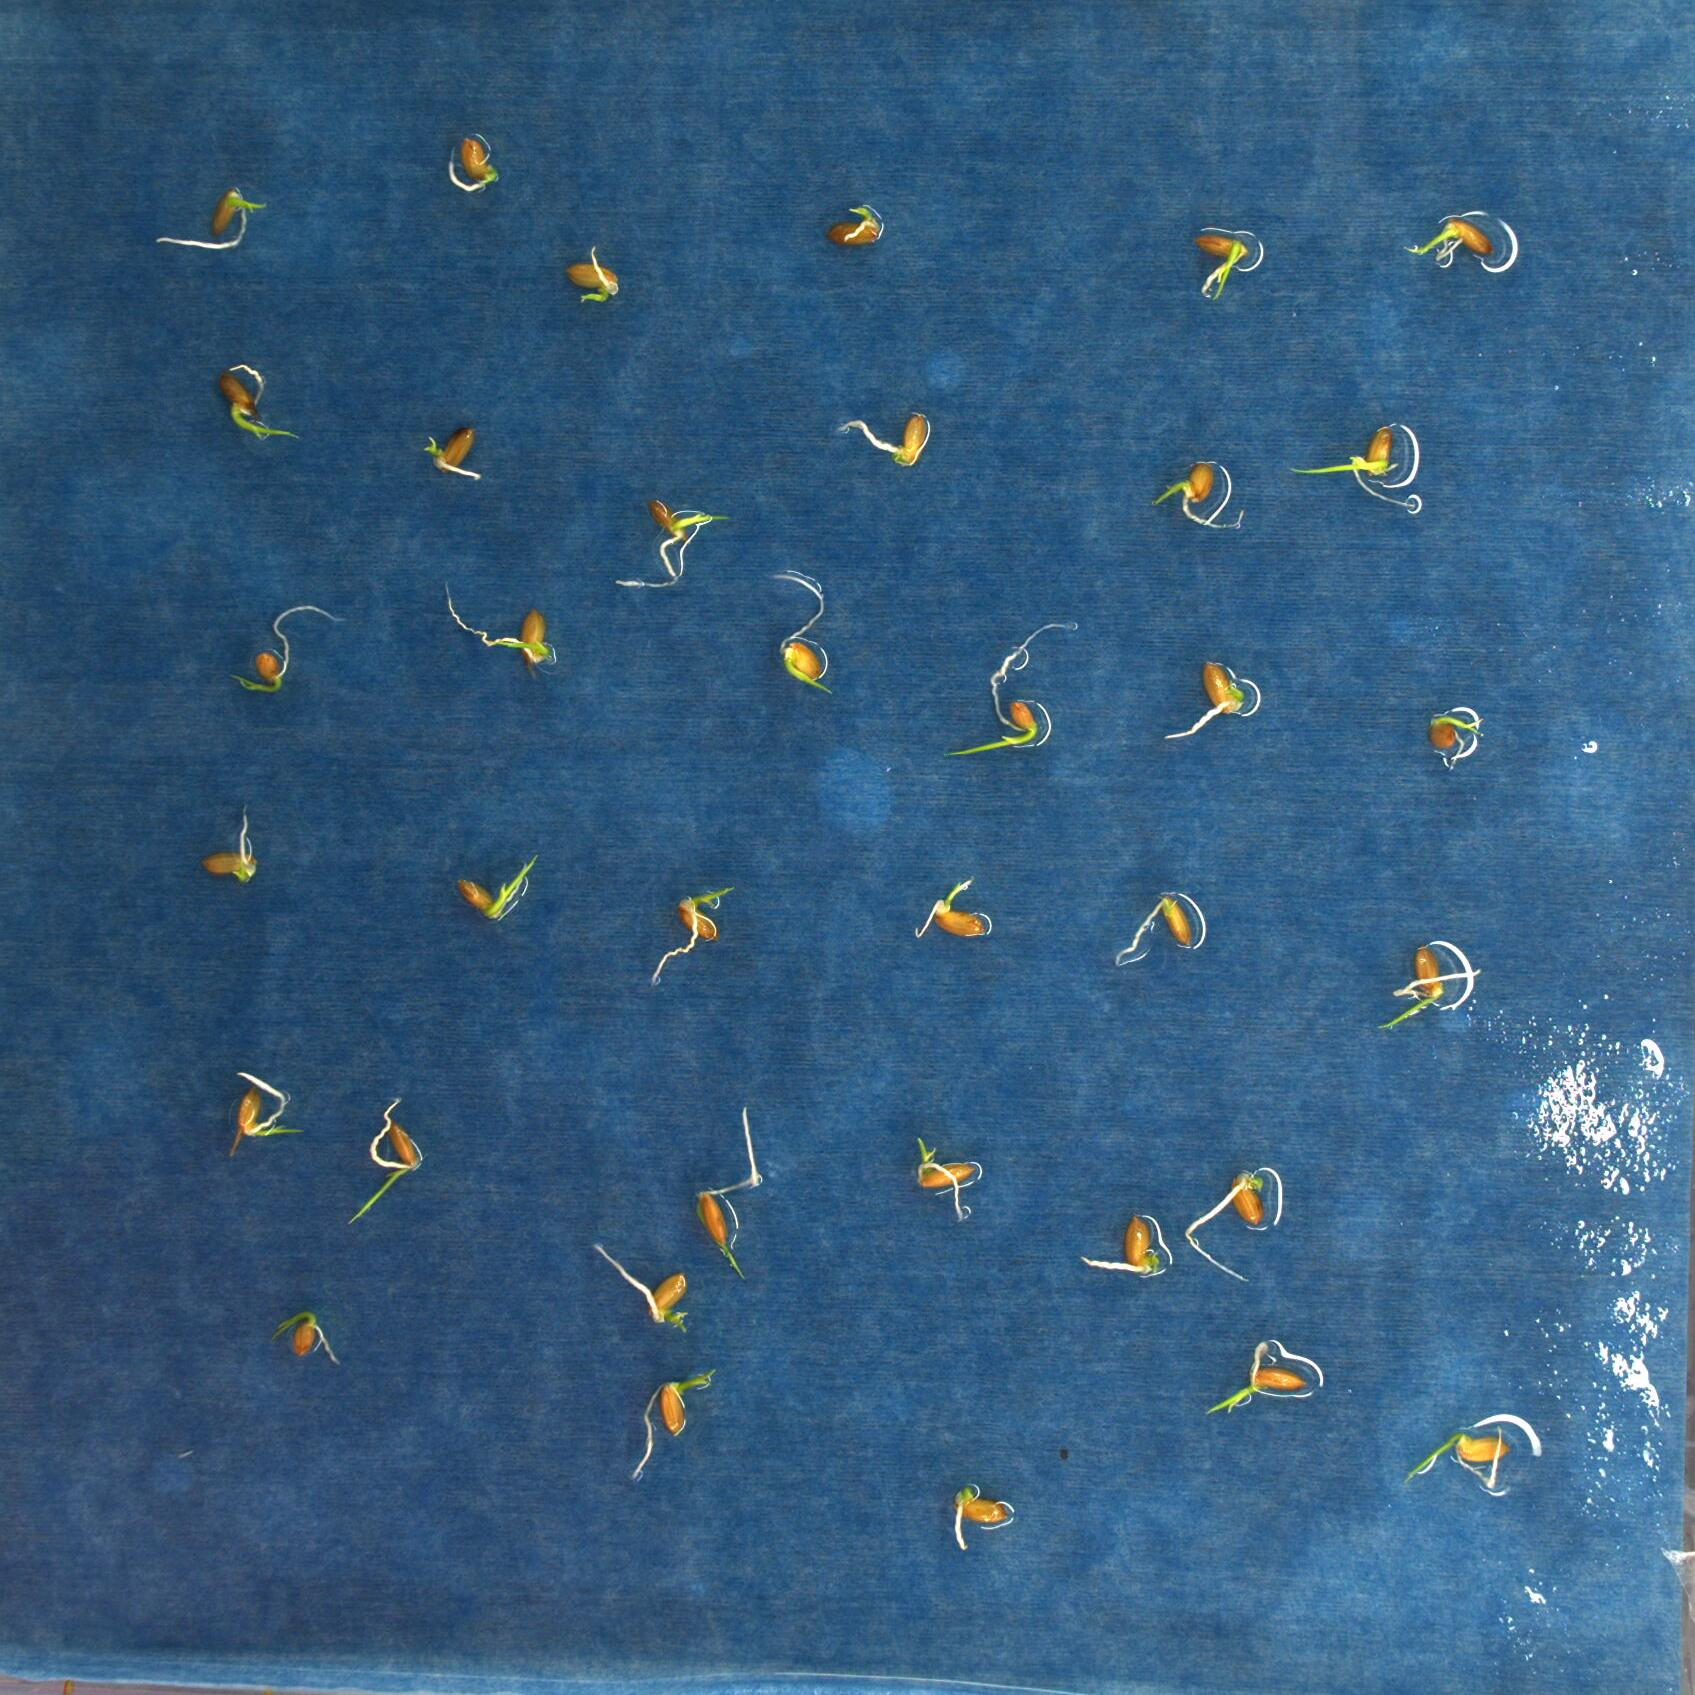not sprout: (1186, 1170, 1267, 1284), (1166, 660, 1245, 740), (1111, 893, 1197, 967), (1080, 1214, 1164, 1277), (840, 413, 928, 467), (200, 802, 255, 883), (953, 1485, 1010, 1551), (424, 425, 481, 481), (450, 135, 498, 191)
sprout: (948, 624, 1069, 757), (1290, 424, 1419, 512), (697, 1104, 761, 1281), (618, 498, 730, 588), (348, 1097, 424, 1223), (231, 605, 334, 695), (593, 1242, 691, 1335), (442, 584, 553, 664), (1378, 944, 1479, 1031), (633, 1371, 714, 1479), (650, 883, 734, 983), (770, 574, 834, 695), (1205, 1341, 1307, 1414), (155, 186, 265, 248), (1152, 461, 1243, 531), (228, 1073, 307, 1153), (1405, 1426, 1510, 1485), (217, 366, 300, 439), (914, 1138, 979, 1222), (456, 854, 537, 920), (914, 877, 987, 941), (1192, 231, 1251, 303), (272, 1312, 343, 1366), (1405, 217, 1495, 258), (565, 245, 619, 303), (826, 205, 880, 245), (1428, 712, 1482, 751)
